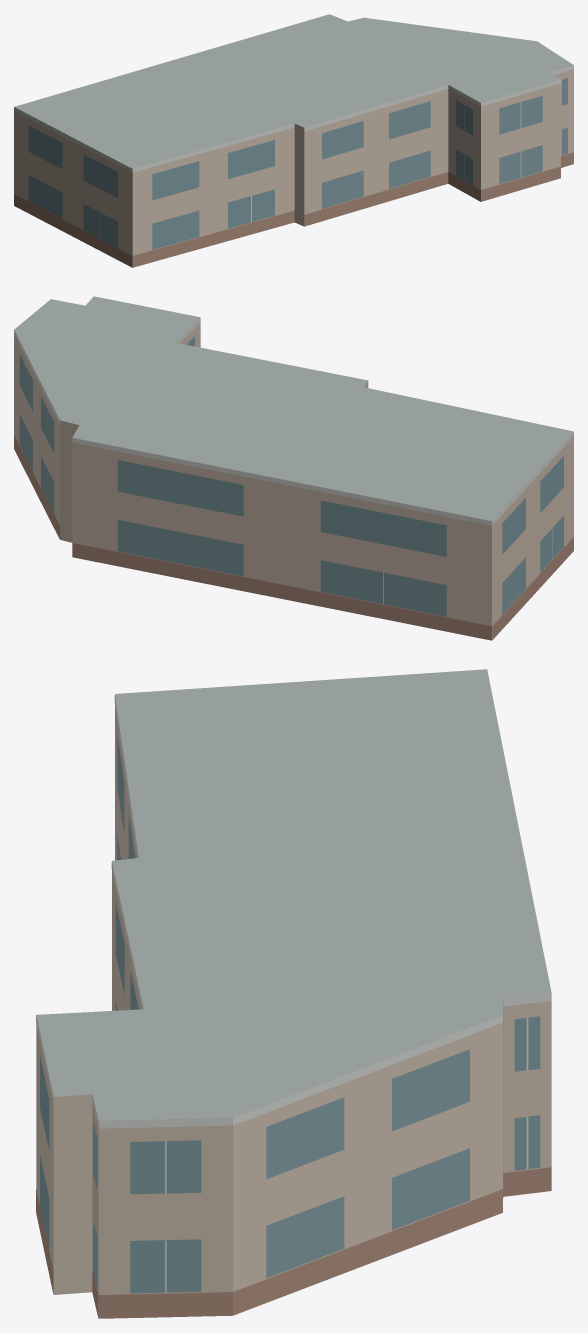
Rendered from survey-upis-32809754.glb.
3 renders of one model, top to bottom at view 1: azimuth 30°, elevation 25°; view 2: azimuth 150°, elevation 25°; view 3: azimuth 270°, elevation 25°, orthographic. The views are drawn at different scales.
Parts seen in each view (by area): view 1: survey-upis-32809754.tmp; view 2: survey-upis-32809754.tmp; view 3: survey-upis-32809754.tmp.
Part boxes in pixels (x1,y1,x2,y2): survey-upis-32809754.tmp: (14, 14, 573, 267); survey-upis-32809754.tmp: (14, 296, 573, 640); survey-upis-32809754.tmp: (36, 669, 551, 1318).
Bounding box in the file's own units: 29.85 × 6.1 × 14.4.
